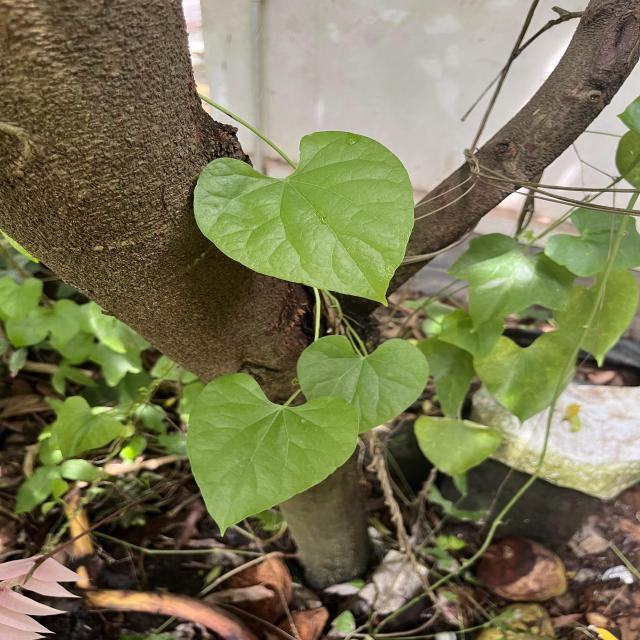Tinospora cordifolia: (188, 127, 416, 311), (183, 368, 362, 540), (294, 331, 432, 433)
